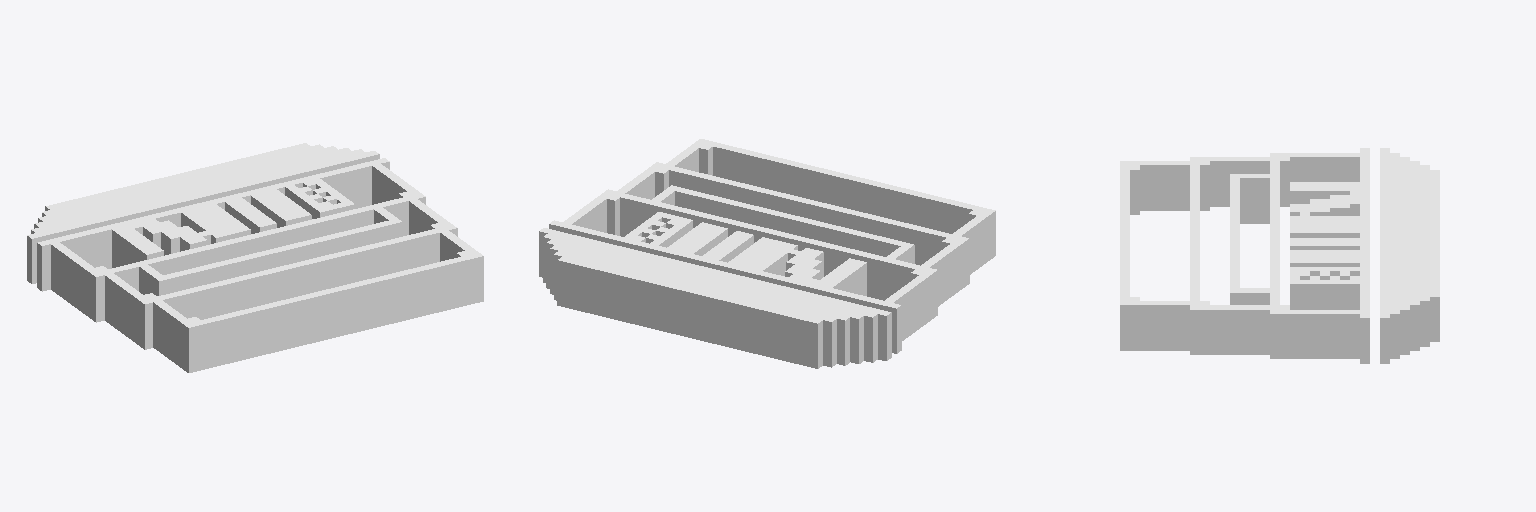
File: Bookshelf-0-b23.obj
3 renders of one model, left to right at view 1: azimuth 30°, elevation 25°; view 2: azimuth 150°, elevation 25°; view 3: azimuth 270°, elevation 25°, orthographic.
Parts seen in each view (by area): view 1: b23; view 2: b23; view 3: b23.
Boxes of the visible parts, x1,y1,x2,y2 form: b23: [27, 143, 483, 372]; b23: [539, 139, 995, 368]; b23: [1120, 148, 1439, 363].
Size of the model in its own units: 4 by 0.5 by 3.2.